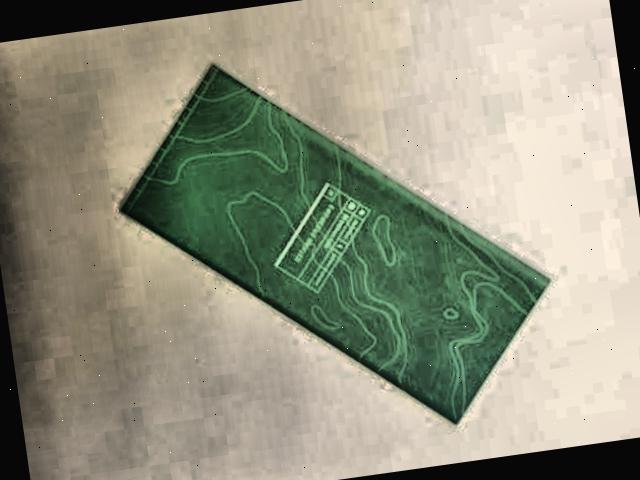Paper: (99, 18, 576, 465)
